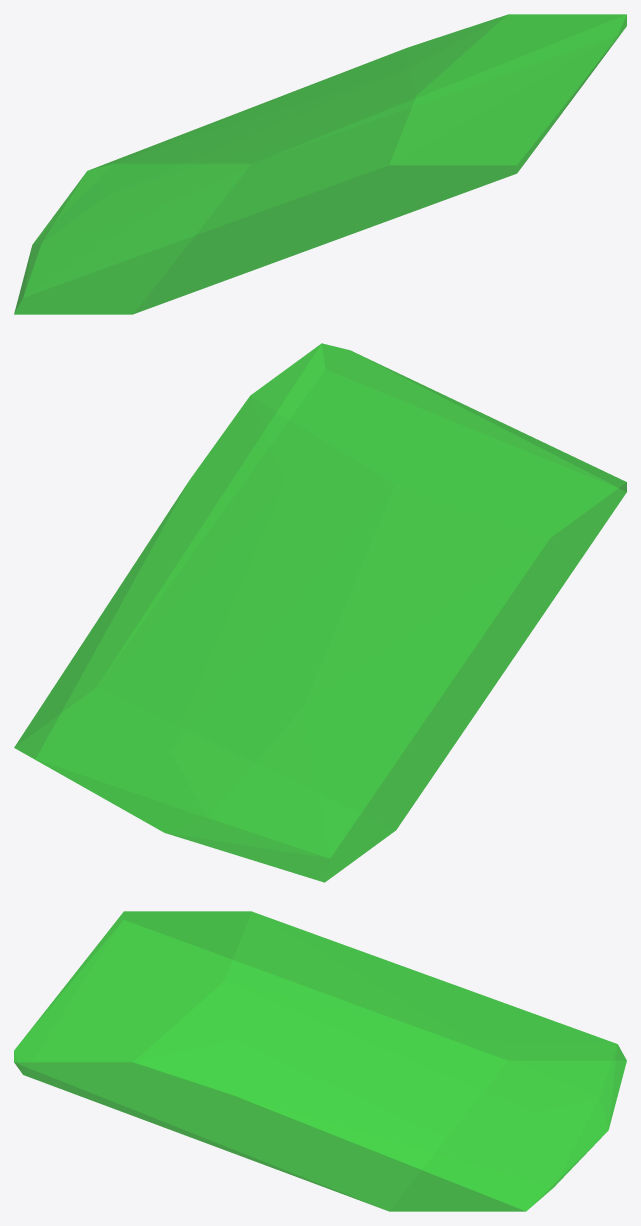
3 renders of one model, top to bottom at view 1: azimuth 90°, elevation 25°; view 2: azimuth 150°, elevation 25°; view 3: azimuth 270°, elevation 25°, orthographic. The views are drawn at different scales.
Visible parts, largest first — view 1: Shape_IndexedFaceSet.034_Shape_IndexedFaceSet.4588; view 2: Shape_IndexedFaceSet.034_Shape_IndexedFaceSet.4588; view 3: Shape_IndexedFaceSet.034_Shape_IndexedFaceSet.4588.
Boxes of the visible parts, x1,y1,x2,y2 form: Shape_IndexedFaceSet.034_Shape_IndexedFaceSet.4588: (14, 14, 626, 314); Shape_IndexedFaceSet.034_Shape_IndexedFaceSet.4588: (14, 343, 626, 882); Shape_IndexedFaceSet.034_Shape_IndexedFaceSet.4588: (14, 911, 626, 1211).
Bounding box in the file's own units: 0.0592 × 0.0273 × 0.1017.
